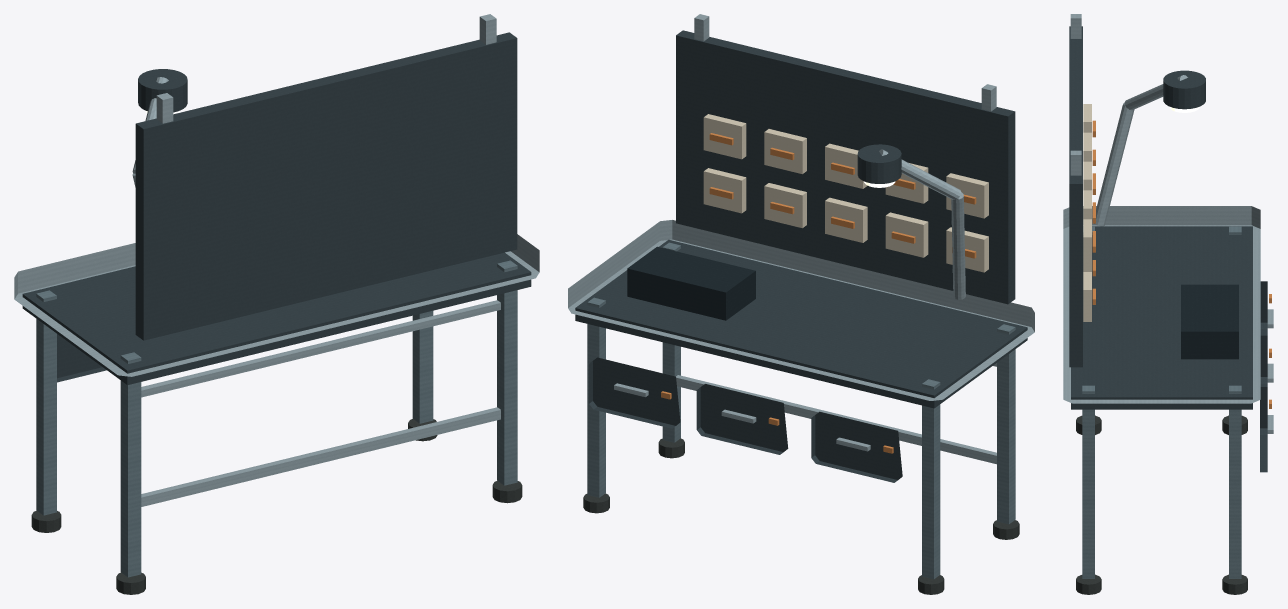
File: eva_tool_station.glb
3 views of the same model, side by side, from view 1: azimuth 30°, elevation 25°; view 2: azimuth 150°, elevation 25°; view 3: azimuth 270°, elevation 25° (orthographic). The views are drawn at different scales.
Visible parts, largest first — view 1: Tool_Deck__graphite, static__graphite, static__trim, static__alloy, work_surface__alloy, feet__rubber, Inspection_Lamp__graphite, Drawer_Fronts__graphite, Tool_Deck__alloy; view 2: Tool_Deck__graphite, static__graphite, Drawer_Fronts__graphite, Tether_Compartments__cream, work_surface__alloy, static__trim, Diagnostic_Dock__carbon, Inspection_Lamp__alloy, static__alloy, feet__rubber, Locking_Clips__amber, Inspection_Lamp__graphite (+2 smaller); view 3: static__graphite, work_surface__alloy, static__trim, Tool_Deck__graphite, Diagnostic_Dock__carbon, Inspection_Lamp__alloy, Tether_Compartments__cream, Drawer_Fronts__graphite, Inspection_Lamp__graphite, feet__rubber, Tool_Deck__alloy, Locking_Clips__amber (+1 smaller).
Part boxes in pixels (left/top/right/bottom): Tool_Deck__graphite: left=135, top=32, right=517, bottom=340; static__graphite: left=22, top=252, right=531, bottom=385; static__trim: left=36, top=260, right=517, bottom=577; static__alloy: left=141, top=300, right=500, bottom=506; work_surface__alloy: left=14, top=234, right=539, bottom=376; feet__rubber: left=31, top=419, right=522, bottom=594; Inspection_Lamp__graphite: left=138, top=69, right=187, bottom=112; Drawer_Fronts__graphite: left=57, top=334, right=106, bottom=382; Tool_Deck__alloy: left=156, top=14, right=496, bottom=123; Tool_Deck__graphite: left=676, top=30, right=1015, bottom=304; static__graphite: left=575, top=239, right=1027, bottom=408; Drawer_Fronts__graphite: left=589, top=357, right=902, bottom=482; Tether_Compartments__cream: left=703, top=114, right=988, bottom=272; work_surface__alloy: left=568, top=220, right=1034, bottom=400; static__trim: left=587, top=242, right=1015, bottom=579; Diagnostic_Dock__carbon: left=627, top=246, right=755, bottom=320; Inspection_Lamp__alloy: left=879, top=149, right=965, bottom=299; static__alloy: left=676, top=363, right=996, bottom=464; feet__rubber: left=583, top=438, right=1019, bottom=594; Locking_Clips__amber: left=709, top=133, right=976, bottom=258; Inspection_Lamp__graphite: left=857, top=144, right=901, bottom=183; static__graphite: left=1071, top=226, right=1252, bottom=409; work_surface__alloy: left=1063, top=206, right=1260, bottom=403; static__trim: left=1082, top=226, right=1241, bottom=578; Tool_Deck__graphite: left=1069, top=26, right=1082, bottom=367; Diagnostic_Dock__carbon: left=1181, top=284, right=1238, bottom=359; Inspection_Lamp__alloy: left=1094, top=75, right=1187, bottom=226; Tether_Compartments__cream: left=1083, top=104, right=1091, bottom=321; Drawer_Fronts__graphite: left=1260, top=281, right=1267, bottom=472; Inspection_Lamp__graphite: left=1163, top=70, right=1205, bottom=109; feet__rubber: left=1076, top=415, right=1247, bottom=594; Tool_Deck__alloy: left=1070, top=14, right=1081, bottom=175; Locking_Clips__amber: left=1092, top=120, right=1095, bottom=304.
Size of the model in its own units: 1.67 by 1.86 by 0.8315.
Materials: 8 (8 with a texture image).
